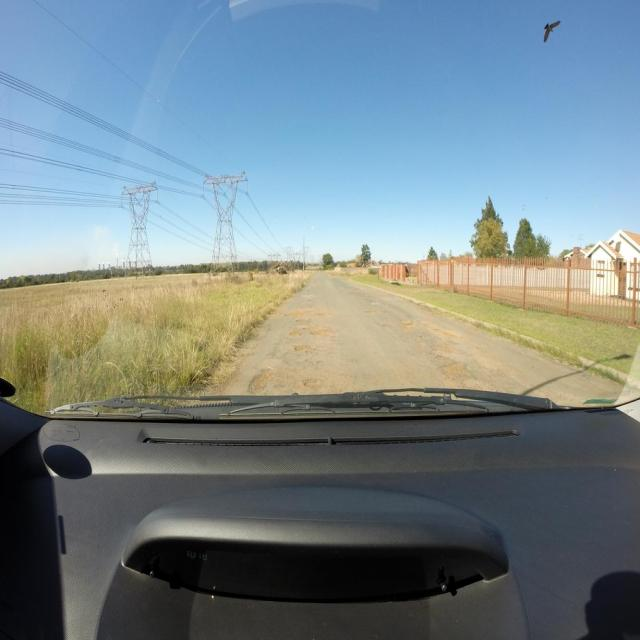Pothole: (442, 362, 471, 387), (248, 373, 276, 394), (287, 312, 308, 324), (312, 330, 334, 336), (401, 320, 416, 328), (304, 380, 321, 387), (296, 345, 310, 353), (289, 331, 301, 337), (364, 310, 376, 314), (317, 313, 330, 316)
